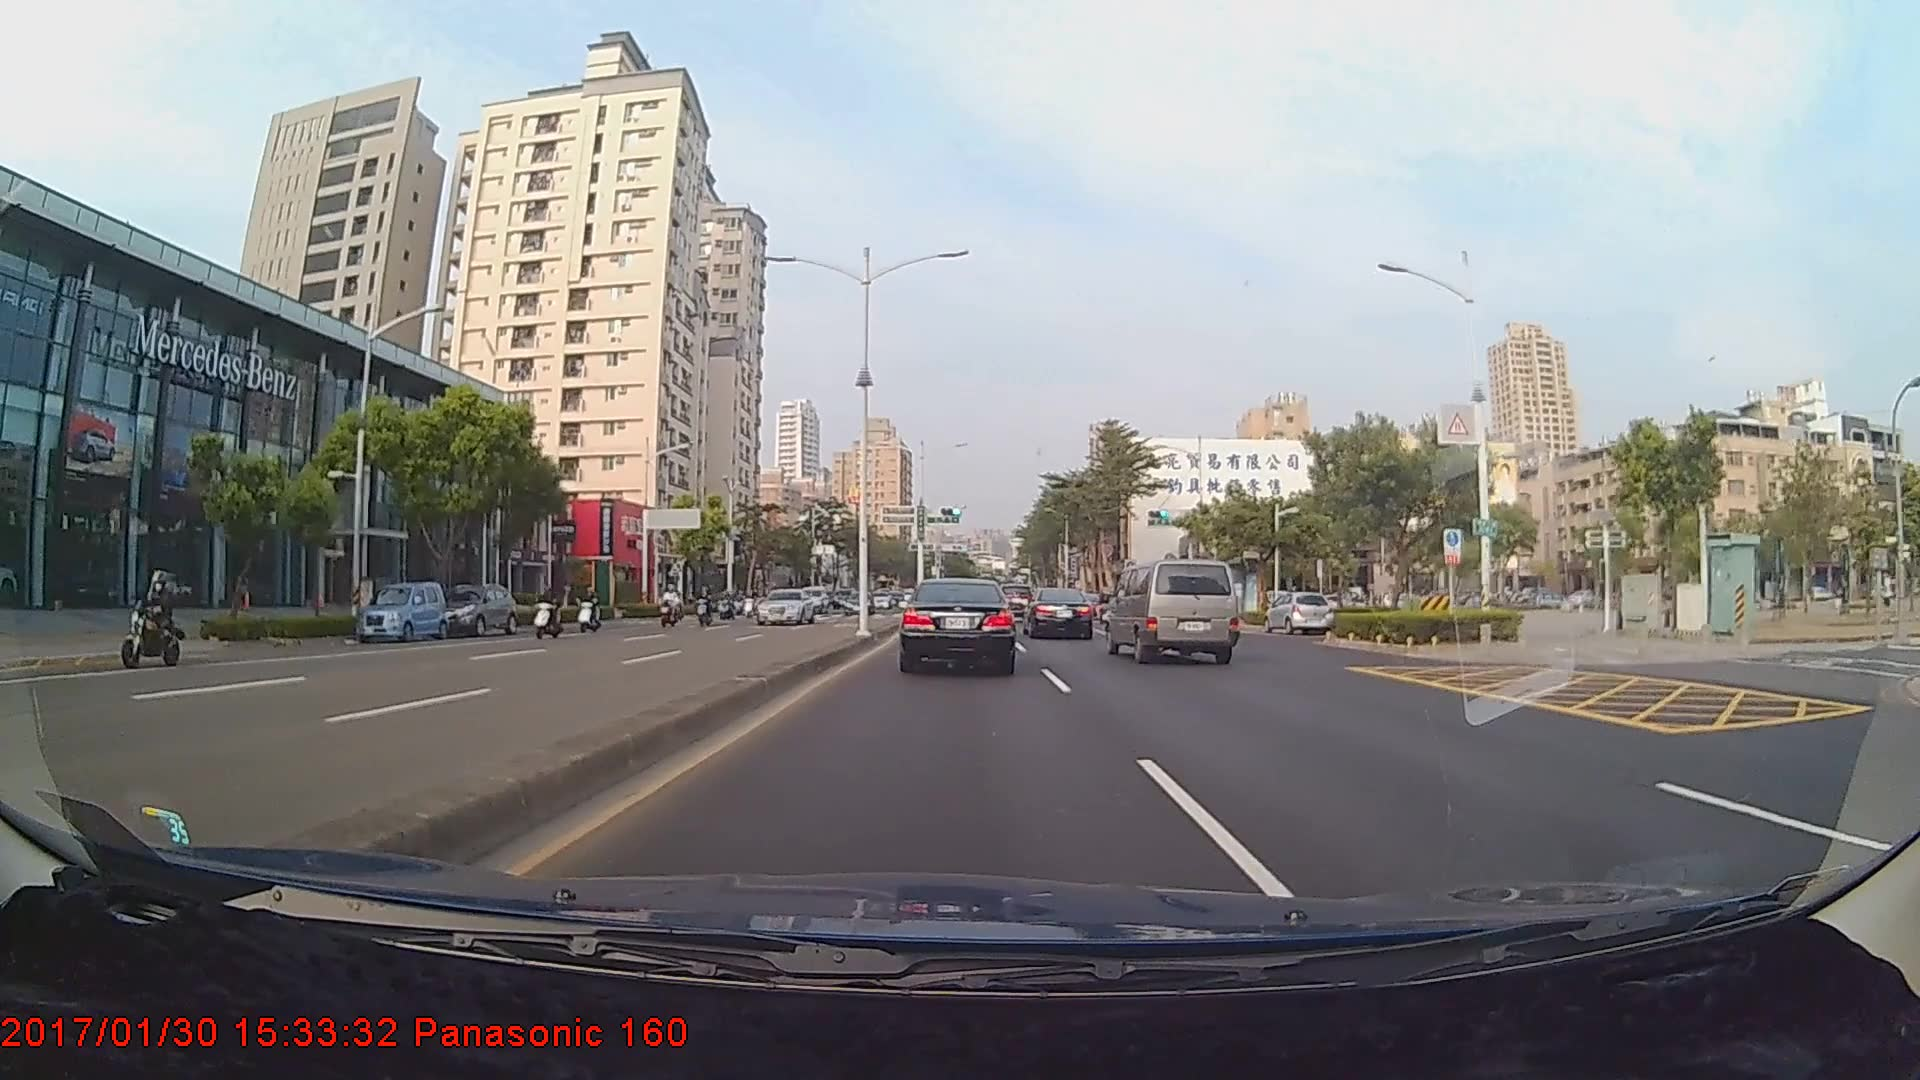rider: (112, 567, 190, 671), (521, 585, 570, 643), (574, 584, 606, 640), (655, 583, 685, 632)
vehicle: (1106, 557, 1240, 664), (899, 577, 1017, 673), (355, 581, 446, 643), (432, 582, 520, 637), (1022, 586, 1094, 640), (1264, 591, 1330, 636), (756, 587, 812, 623)
